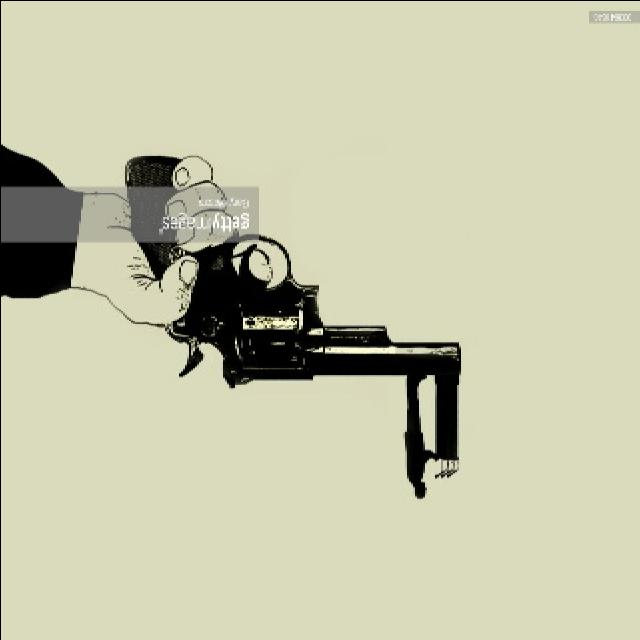handgun: (119, 154, 477, 512)
